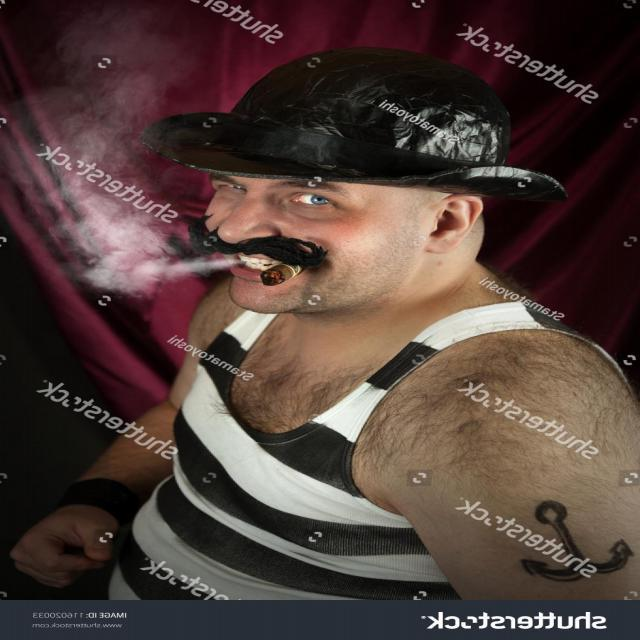cigarette: (236, 248, 304, 308)
